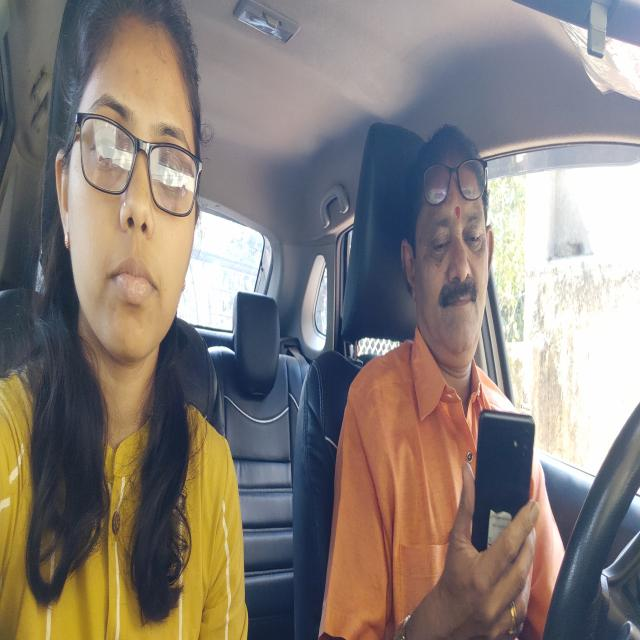mobile: (477, 398, 534, 564)
person: (51, 0, 204, 357), (402, 117, 501, 365)
